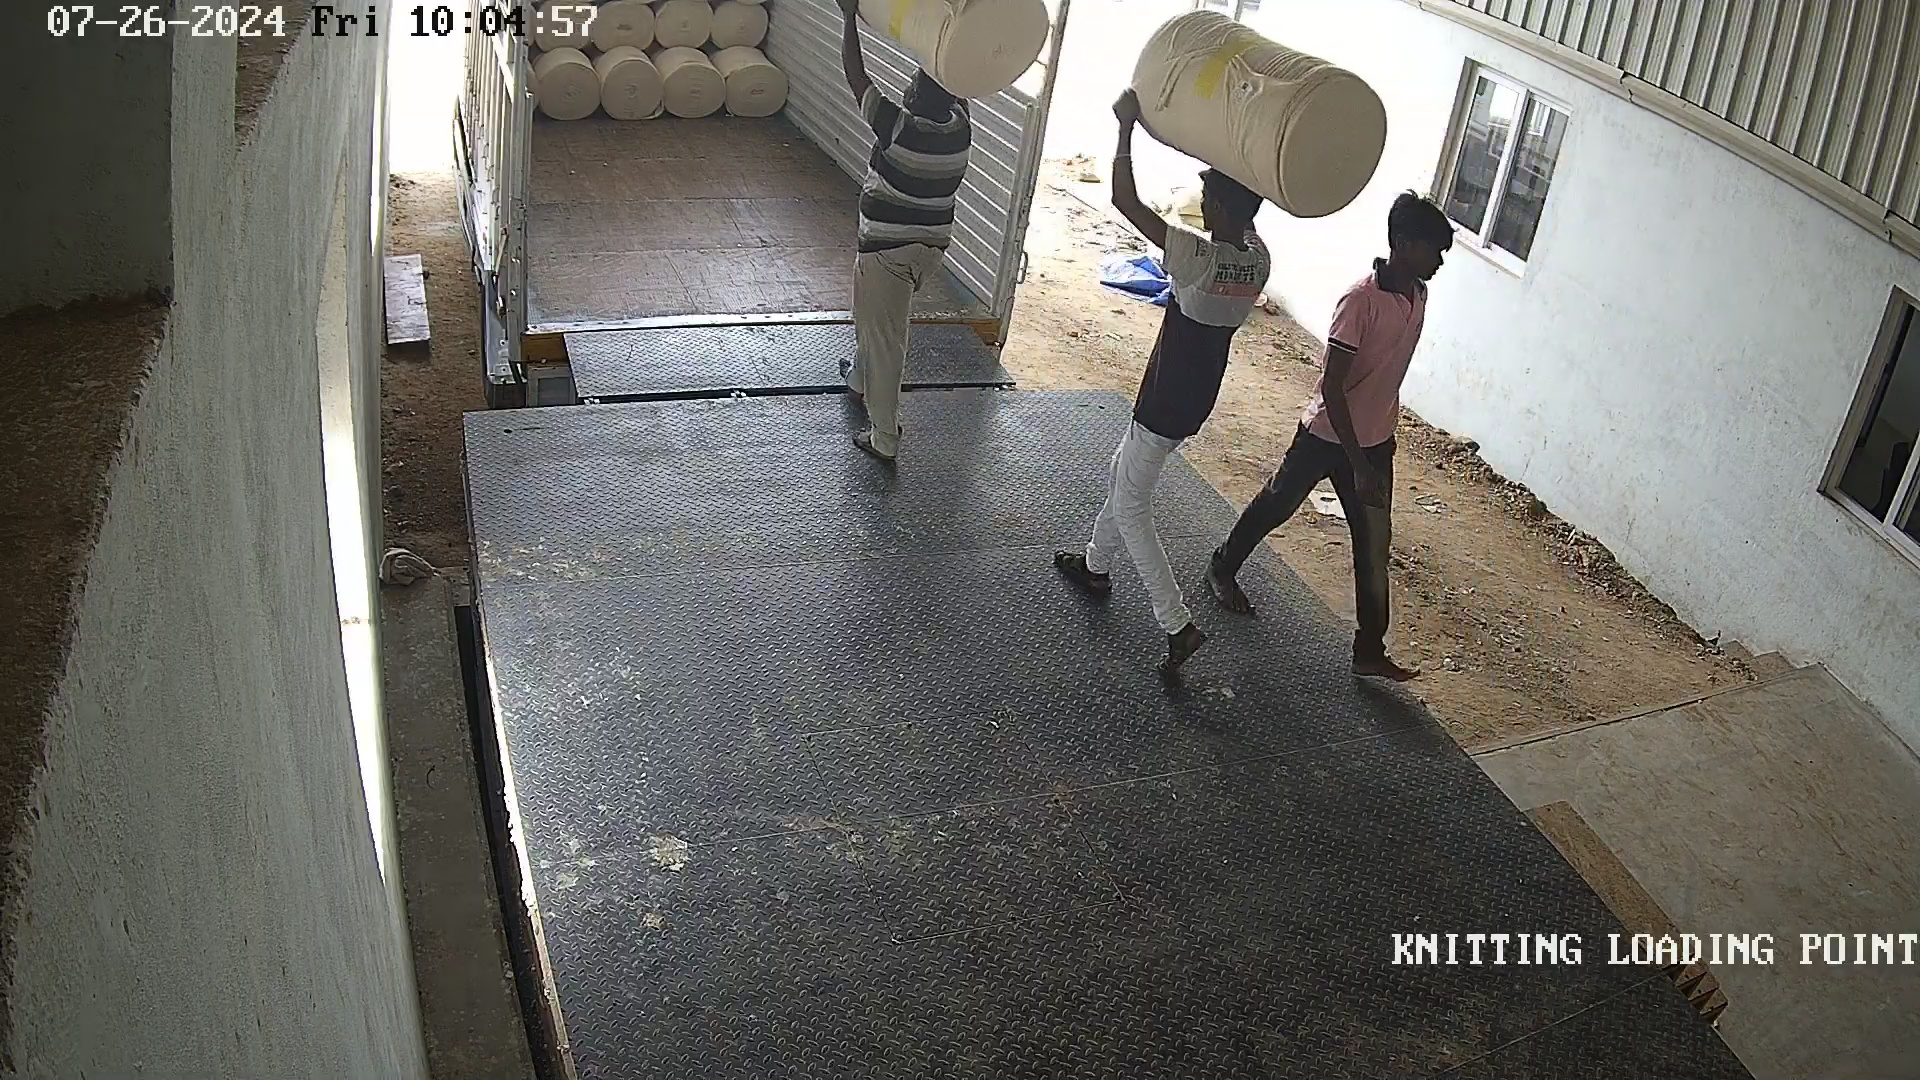bag: (1112, 13, 1395, 222)
